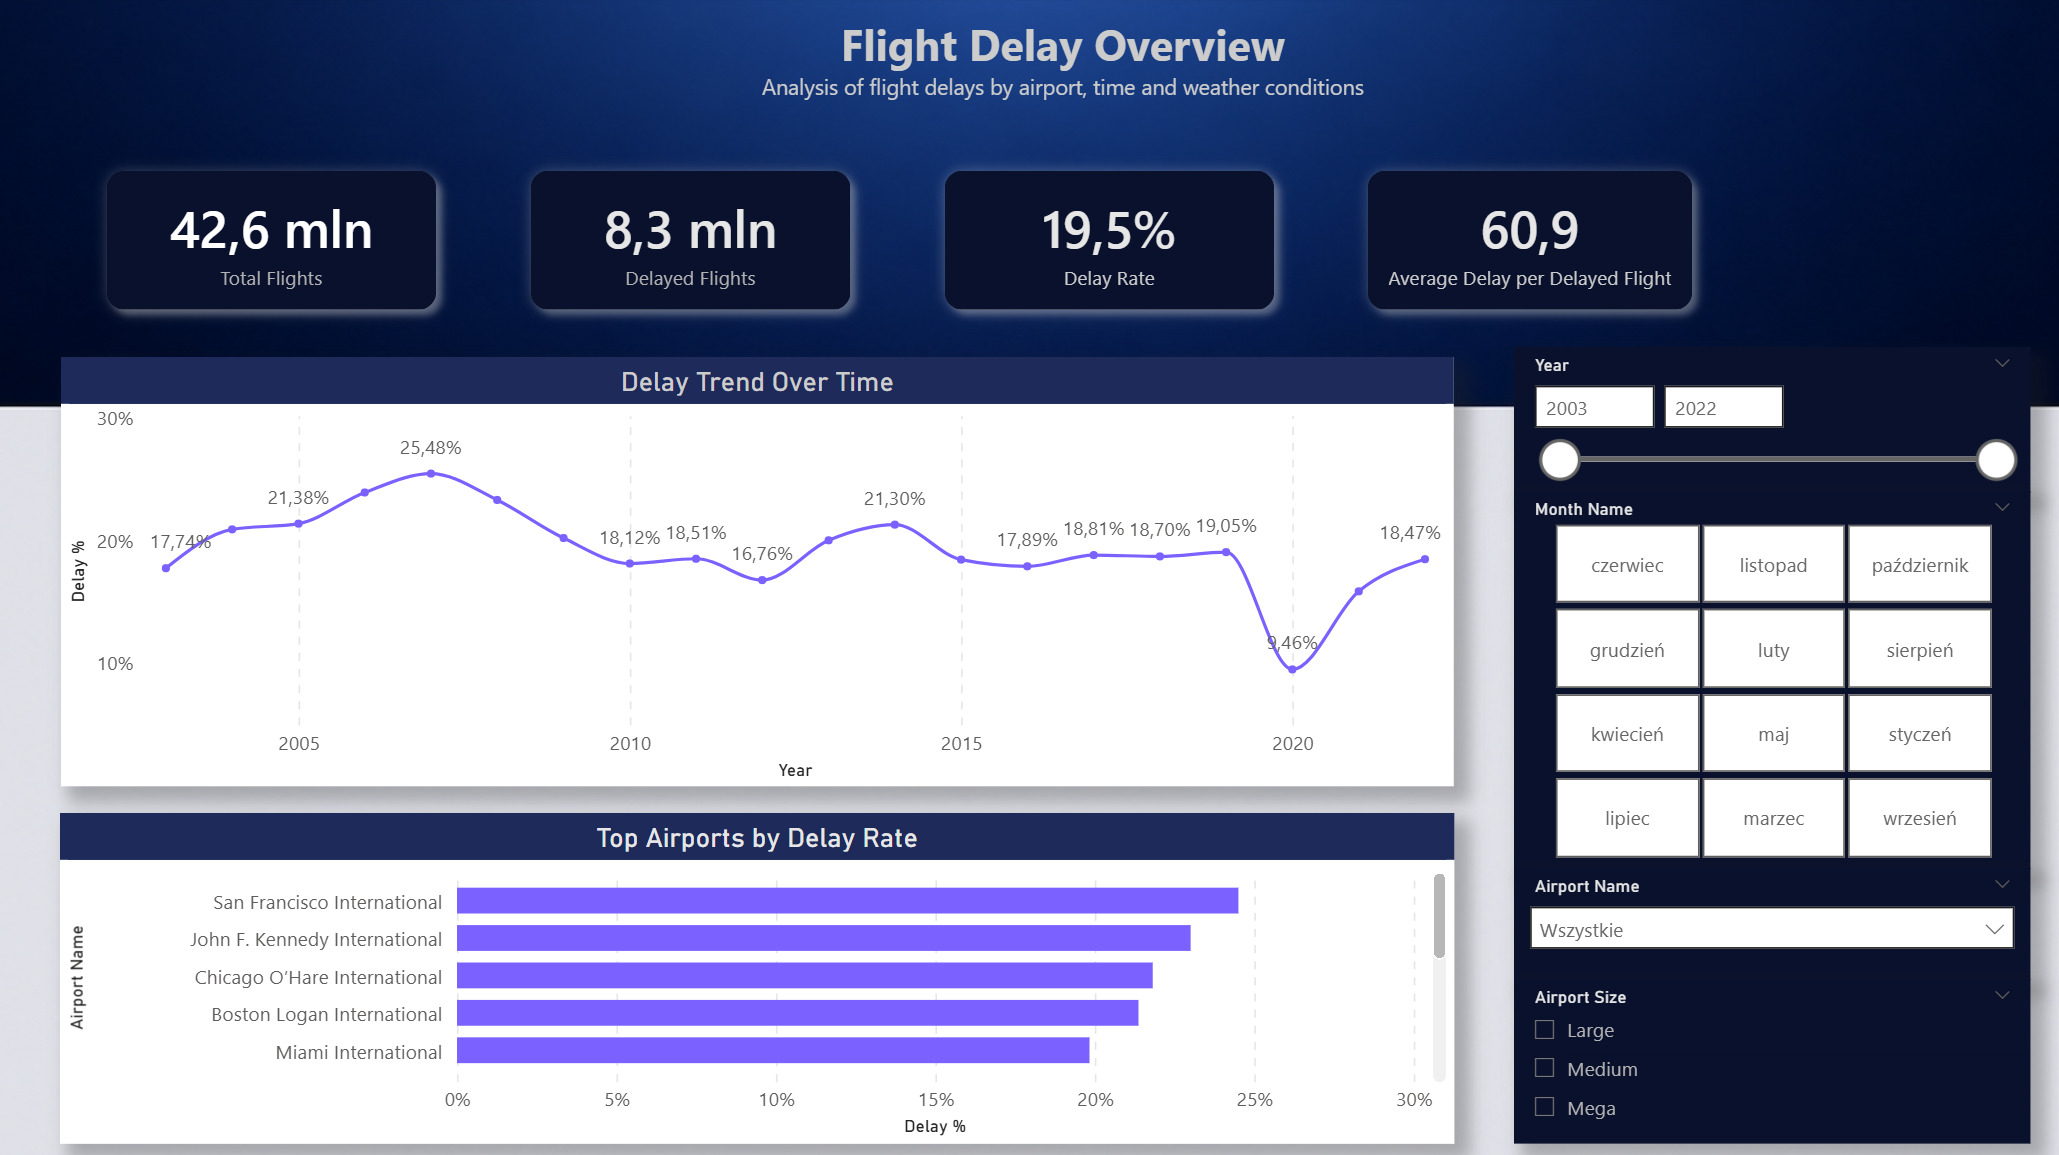

What the dashboard file says about the page in this screenshot:
{"tool":"powerbi","page":{"name":"OVERVIEW","canvas":[1280,720],"ordinal":1},"visuals":[{"type":"cardVisual","fields":{"Data":["Miary.Total Flights"]},"box":[37.1,78.4,262.7,144.4],"z":0},{"type":"cardVisual","fields":{"Data":["Miary.Delayed Flights"]},"box":[299.9,78.4,256.6,144.4],"z":1000},{"type":"cardVisual","fields":{"Data":["Miary.Delay %"]},"box":[556.4,78.4,262.1,144.4],"z":2000},{"type":"cardVisual","fields":{"Data":["Miary.Average Delay per Delayed Flight"]},"box":[818.5,78.4,259.3,144.4],"z":3000},{"type":"lineChart","title":"Delay Trend Over Time","fields":{"Category":["Dim_Date.Date.Odmiana.Hierarchia dat.Rok","Dim_Date.Date.Odmiana.Hierarchia dat.Kwartał","Dim_Date.Date.Odmiana.Hierarchia dat.Miesiąc","Dim_Date.Date.Odmiana.Hierarchia dat.Dzień"],"Y":["Miary.Delay %"]},"box":[38,223.1,863.1,266.3],"z":4000},{"type":"slicer","fields":{"Values":["Dim_Date.Year"]},"box":[938.4,216.6,320,89.7],"z":5000},{"type":"slicer","fields":{"Values":["Dim_Date.MonthName"]},"box":[938.4,306.3,320,233.6],"z":6000},{"type":"slicer","fields":{"Values":["Airline_Delay_Cause.airport_name"]},"box":[938.4,539.9,320,68.7],"z":7000},{"type":"slicer","fields":{"Values":["dim_airport_unique.airport_size"]},"box":[938.4,608.6,320,102.1],"z":8000},{"type":"barChart","title":"Top Airports by Delay Rate","fields":{"Category":["dim_airport_unique.airport_name"],"Y":["Miary.Delay %"]},"box":[37.3,505.8,863.8,204.8],"z":9000},{"type":"textbox","box":[37.1,5.5,1242.9,72.9],"z":10000}]}

Visuals, with their boxes in screenshot pixels (x1, y1, x2, y2), scaled from the page's 1280x720 canvas onto the 2059x1155 screenshot:
cardVisual - Miary.Total Flights: {"left": 60, "top": 126, "right": 482, "bottom": 357}
cardVisual - Miary.Delayed Flights: {"left": 482, "top": 126, "right": 895, "bottom": 357}
cardVisual - Miary.Delay %: {"left": 895, "top": 126, "right": 1317, "bottom": 357}
cardVisual - Miary.Average Delay per Delayed Flight: {"left": 1317, "top": 126, "right": 1734, "bottom": 357}
"Delay Trend Over Time" lineChart: {"left": 61, "top": 358, "right": 1450, "bottom": 785}
slicer - Dim_Date.Year: {"left": 1510, "top": 347, "right": 2024, "bottom": 491}
slicer - Dim_Date.MonthName: {"left": 1510, "top": 491, "right": 2024, "bottom": 866}
slicer - Airline_Delay_Cause.airport_name: {"left": 1510, "top": 866, "right": 2024, "bottom": 976}
slicer - dim_airport_unique.airport_size: {"left": 1510, "top": 976, "right": 2024, "bottom": 1140}
"Top Airports by Delay Rate" barChart: {"left": 60, "top": 811, "right": 1450, "bottom": 1140}
textbox: {"left": 60, "top": 9, "right": 2058, "bottom": 126}
